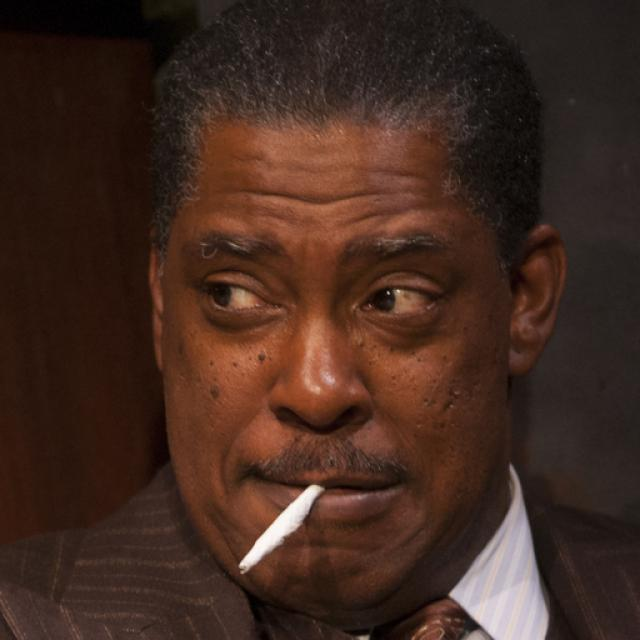Wrinkle: (225, 177, 398, 216), (362, 155, 431, 186), (353, 198, 405, 230)
